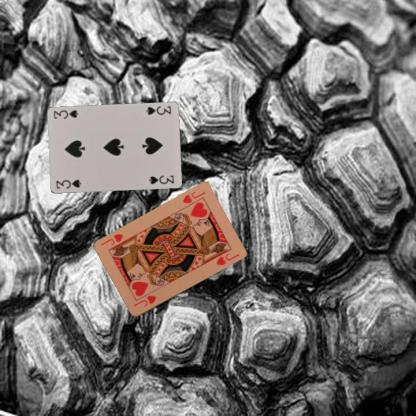3s: (54, 177, 82, 190), (143, 104, 172, 116)
Jh: (179, 189, 207, 205), (131, 293, 158, 308)
